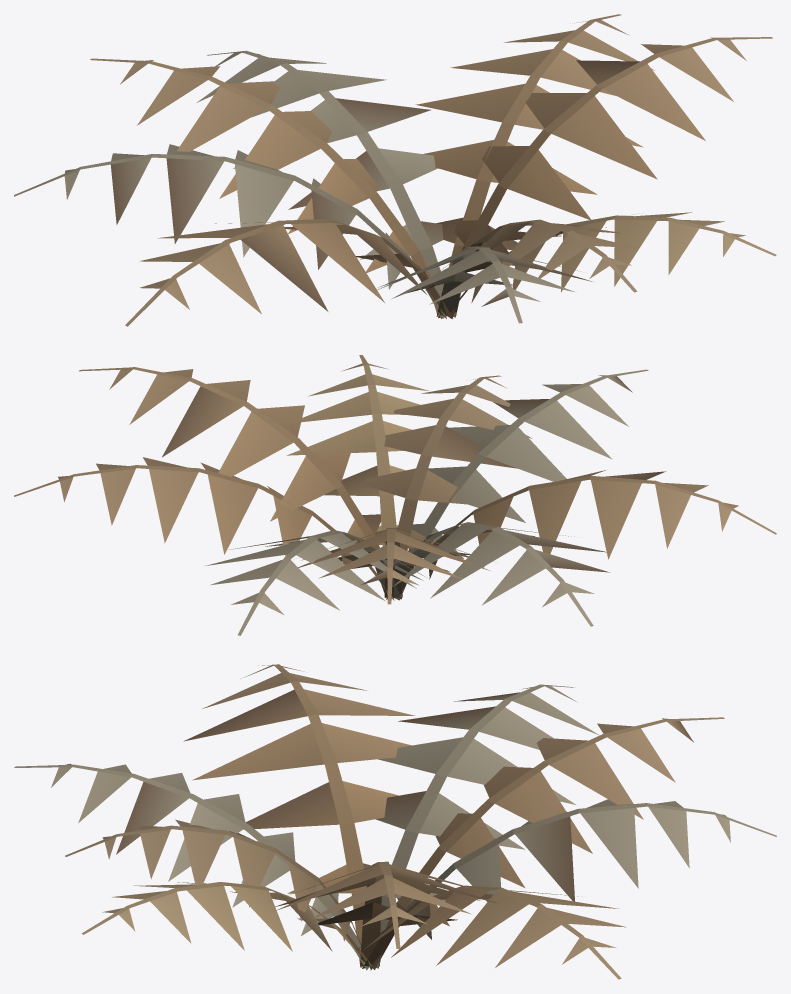
File: gc_dead_fern.glb
The picture shows the model from 3 angles, top to bottom: view 1: azimuth 30°, elevation 25°; view 2: azimuth 150°, elevation 25°; view 3: azimuth 270°, elevation 25°; orthographic projection. The views are drawn at different scales.
Parts seen in each view (by area): view 1: gc_dead_fern; view 2: gc_dead_fern; view 3: gc_dead_fern.
Part boxes in pixels (box(x1,y1,x2,y2)): gc_dead_fern: box(14, 14, 776, 326); gc_dead_fern: box(14, 355, 776, 635); gc_dead_fern: box(14, 664, 776, 979).
Bounding box in the file's own units: 1.22 × 0.3249 × 1.15.
